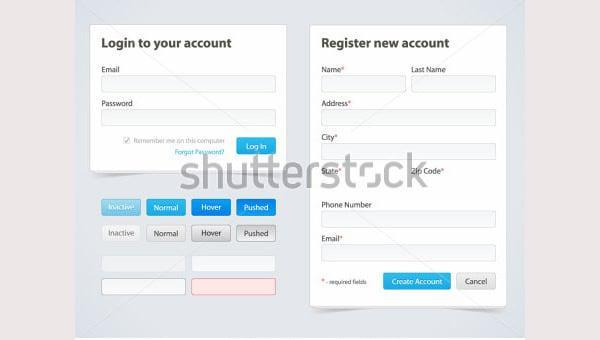button: (384, 274, 453, 291), (102, 225, 144, 245), (146, 224, 187, 244), (146, 199, 189, 218), (236, 225, 278, 244), (192, 225, 233, 244), (101, 199, 142, 218), (457, 273, 497, 292), (237, 138, 278, 156), (191, 199, 232, 217), (236, 200, 278, 217)
checkbox: (123, 137, 132, 147)
input: (322, 111, 498, 130), (102, 76, 278, 95), (322, 144, 499, 162), (101, 110, 278, 128), (324, 246, 497, 264), (322, 212, 498, 229), (101, 255, 187, 274), (410, 76, 497, 94), (322, 76, 407, 94), (102, 279, 186, 297), (193, 279, 278, 296), (193, 256, 277, 273)
label: (135, 137, 229, 147), (319, 199, 374, 211), (410, 167, 448, 179), (101, 99, 135, 109), (320, 100, 353, 110), (321, 65, 346, 77), (412, 67, 449, 75), (320, 235, 346, 245), (321, 133, 340, 145), (103, 65, 123, 75), (324, 169, 344, 177)
